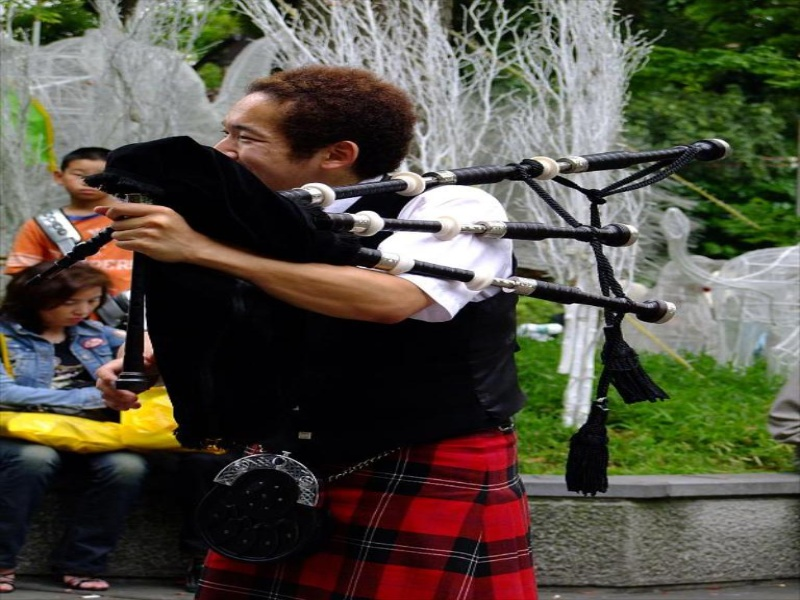person: (218, 58, 526, 600), (5, 266, 141, 594), (46, 143, 155, 384)
